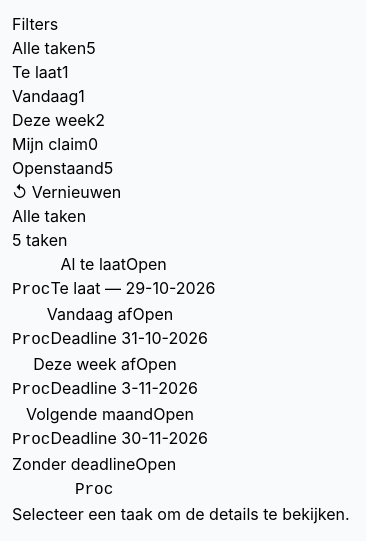
it: TakenInbox deadline filters › "Deze week" spans the next seven days and excludes what is already late
Check: the text "Al te laat" is shown, box x1=61 y1=254 x2=126 y2=274
Click the button "Deze week2" at (59, 120), box x1=12 y1=108 x2=105 y2=132
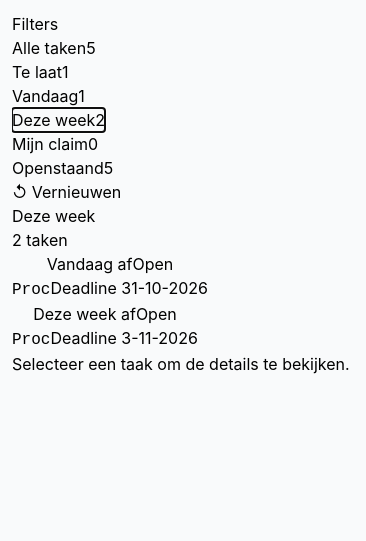
Check: the text "Deze week af" is shown, box x1=33 y1=304 x2=136 y2=324
Check: the button "Al te laat" is gone
Check: the button "Volgende maand" is gone
